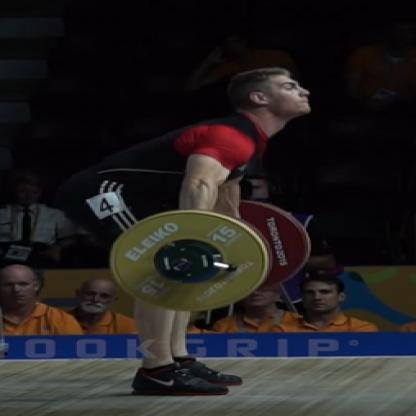barbell: (110, 196, 313, 314)
